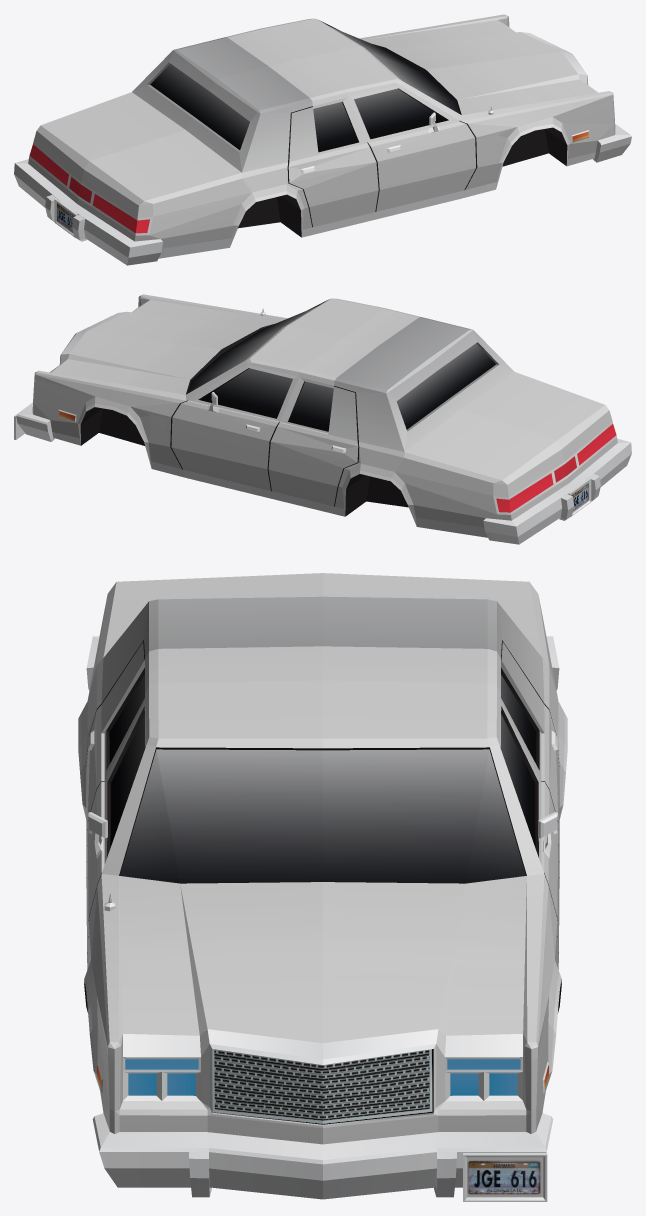
The model's file is LowRider.glb.
3 renders of one model, top to bottom at view 1: azimuth 30°, elevation 25°; view 2: azimuth 150°, elevation 25°; view 3: azimuth 270°, elevation 25°, orthographic. The views are drawn at different scales.
Visible parts, largest first — view 1: Crysler; view 2: Crysler; view 3: Crysler.
Boxes of the visible parts, <box> form: Crysler: <box>14,14,631,265</box>; Crysler: <box>14,294,631,544</box>; Crysler: <box>78,573,567,1201</box>.
Bounding box in the file's own units: 494 × 115 × 199.
Materials: 1 (1 with a texture image).
